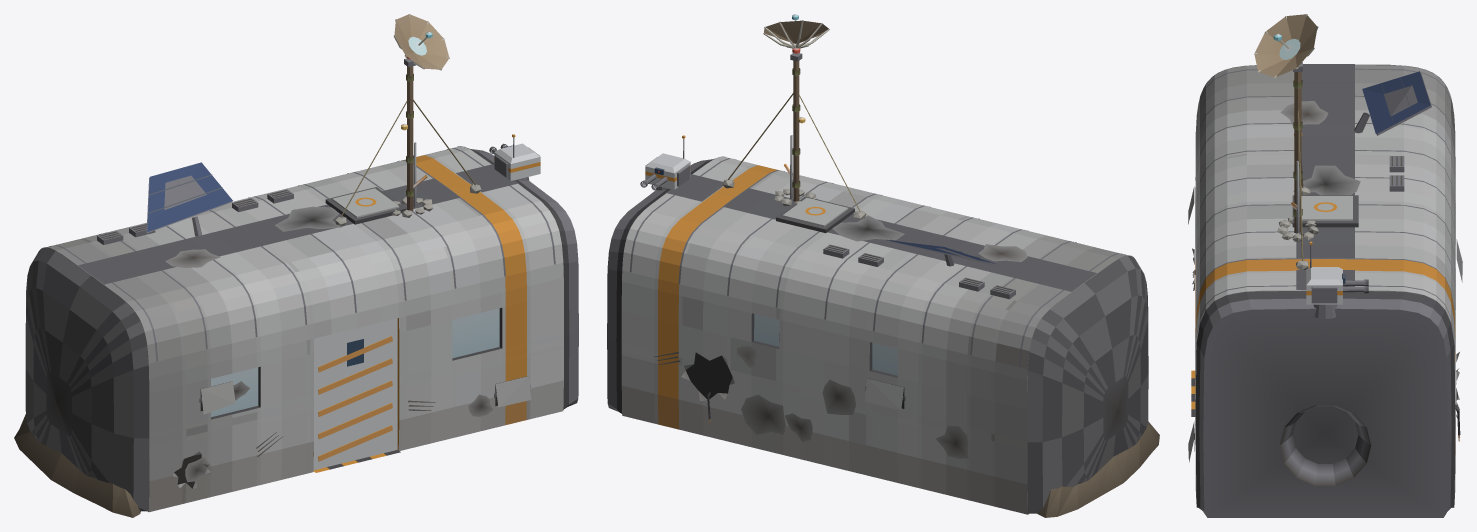
File: module_a.glb
3 views of the same model, side by side, from view 1: azimuth 30°, elevation 25°; view 2: azimuth 150°, elevation 25°; view 3: azimuth 270°, elevation 25° (orthographic). The views are drawn at different scales.
Parts seen in each view (by area): view 1: fade_shell, hull, door, fade_glass, fade_beacon_3, fade_damage_2, Head, fade_beacon_1, fade_damage_3, damage_2, fade_beacon_2, damage_1; view 2: hull, fade_shell, damage_3, damage_2, damage_1, glass, Head, fade_beacon_3, fade_beacon_1, fade_damage_3, fade_beacon_2, fade_damage_2; view 3: hull, fade_shell, fade_beacon_3, Head, fade_beacon_1, fade_damage_3, fade_beacon_2, fade_damage_2, damage_2, lamp_beacon_launch_glow.
Part boxes in pixels (x1,y1,x2,y2): fade_shell: (47, 146, 563, 438); hull: (14, 146, 578, 517); door: (313, 318, 399, 469); fade_glass: (211, 308, 499, 416); fade_beacon_3: (393, 14, 449, 70); fade_damage_2: (165, 249, 235, 414); Head: (489, 134, 540, 180); fade_beacon_1: (404, 58, 416, 210); fade_damage_3: (275, 206, 341, 231); damage_2: (408, 376, 531, 410); fade_beacon_2: (334, 99, 481, 226); damage_1: (185, 394, 493, 482); hull: (607, 156, 1159, 517); fade_shell: (622, 156, 1127, 369); damage_3: (681, 352, 785, 434); damage_2: (822, 378, 905, 414); damage_1: (654, 346, 968, 458); glass: (754, 314, 897, 375); Head: (640, 135, 690, 190); fade_beacon_3: (763, 20, 829, 48); fade_beacon_1: (790, 53, 802, 201); fade_damage_3: (832, 215, 904, 241); fade_beacon_2: (723, 93, 866, 219); fade_damage_2: (978, 244, 1027, 261); hull: (1191, 64, 1455, 517); fade_shell: (1195, 64, 1454, 412); fade_beacon_3: (1254, 14, 1318, 78); Head: (1306, 241, 1368, 304); fade_beacon_1: (1293, 62, 1302, 233); fade_damage_3: (1293, 165, 1360, 195); fade_beacon_2: (1277, 111, 1318, 269); fade_damage_2: (1188, 101, 1328, 224); damage_2: (1188, 239, 1462, 462); lamp_beacon_launch_glow: (1279, 38, 1300, 59).
Bounding box in the file's own units: 6.94 × 5.17 × 3.
